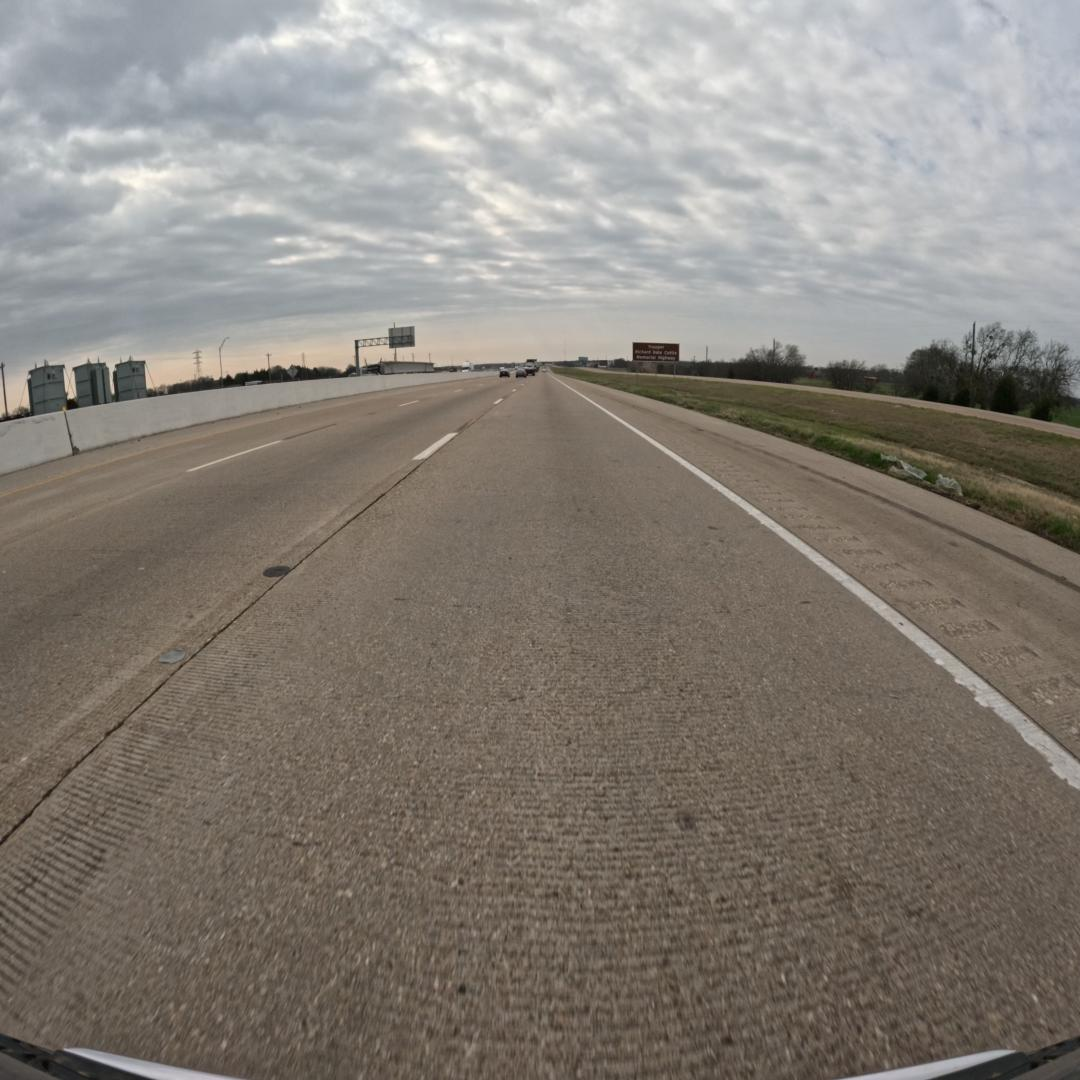lane0: (0, 375, 1080, 1076)
lane1: (0, 380, 518, 842)
